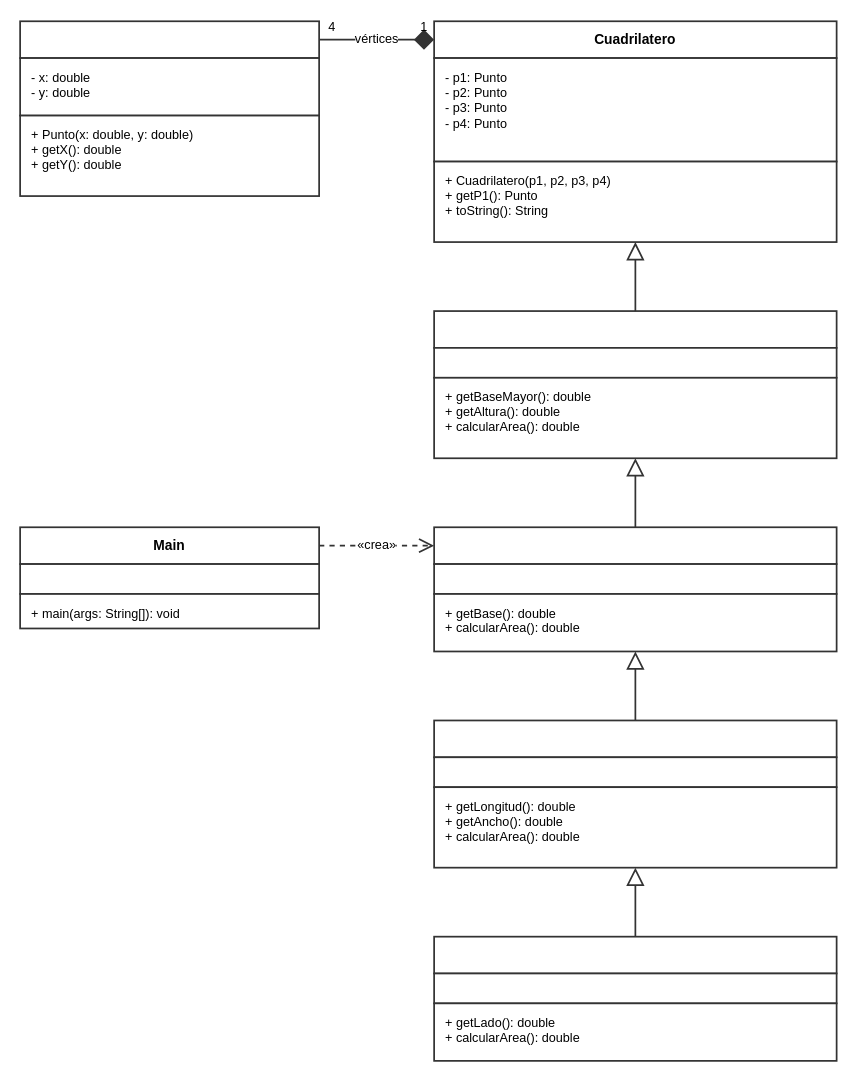
Some shapes in this 858 by 1082 pixel diagram are drawn without their labels. The shapes that lost their labels are listed below. From the top down, each one's centre as x and y in pixels, then its label:
[169,39]: Punto
[635,329]: Trapezoide
[635,545]: Paralelogramo
[635,738]: Rectangulo
[635,954]: Cuadrado
